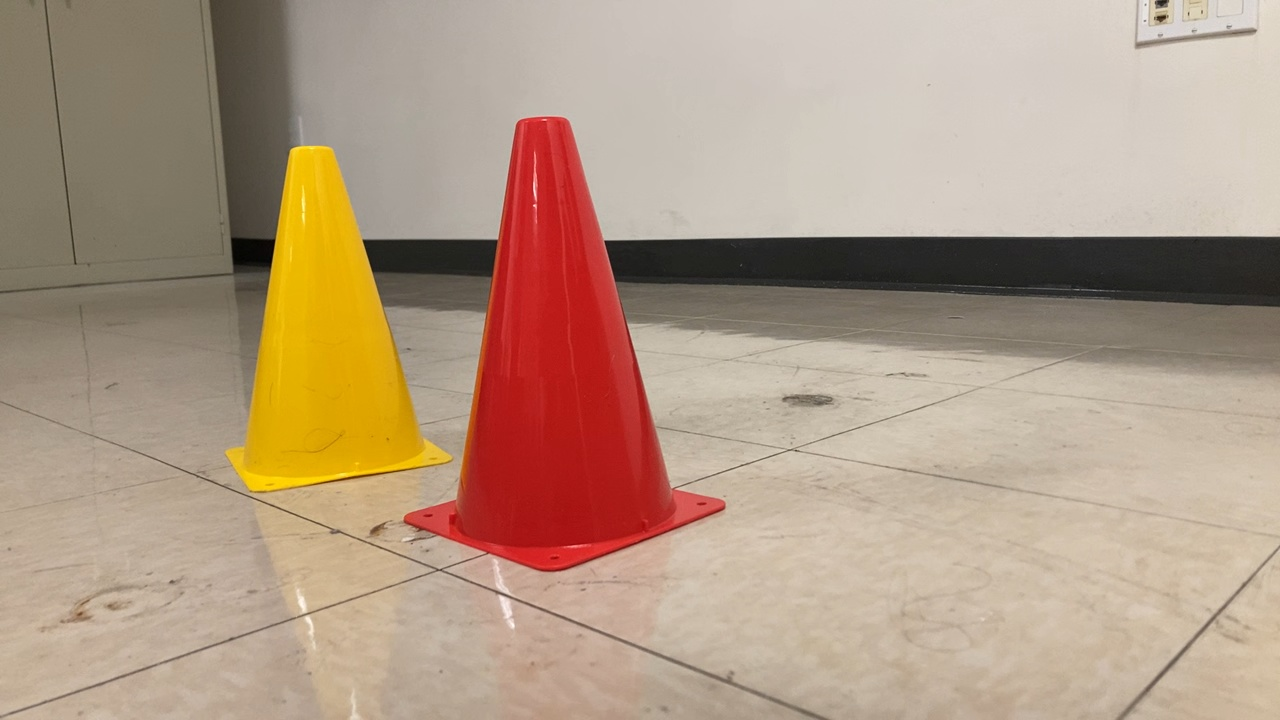red_cone: (392, 108, 738, 586)
yellow_cone: (217, 136, 457, 497)
